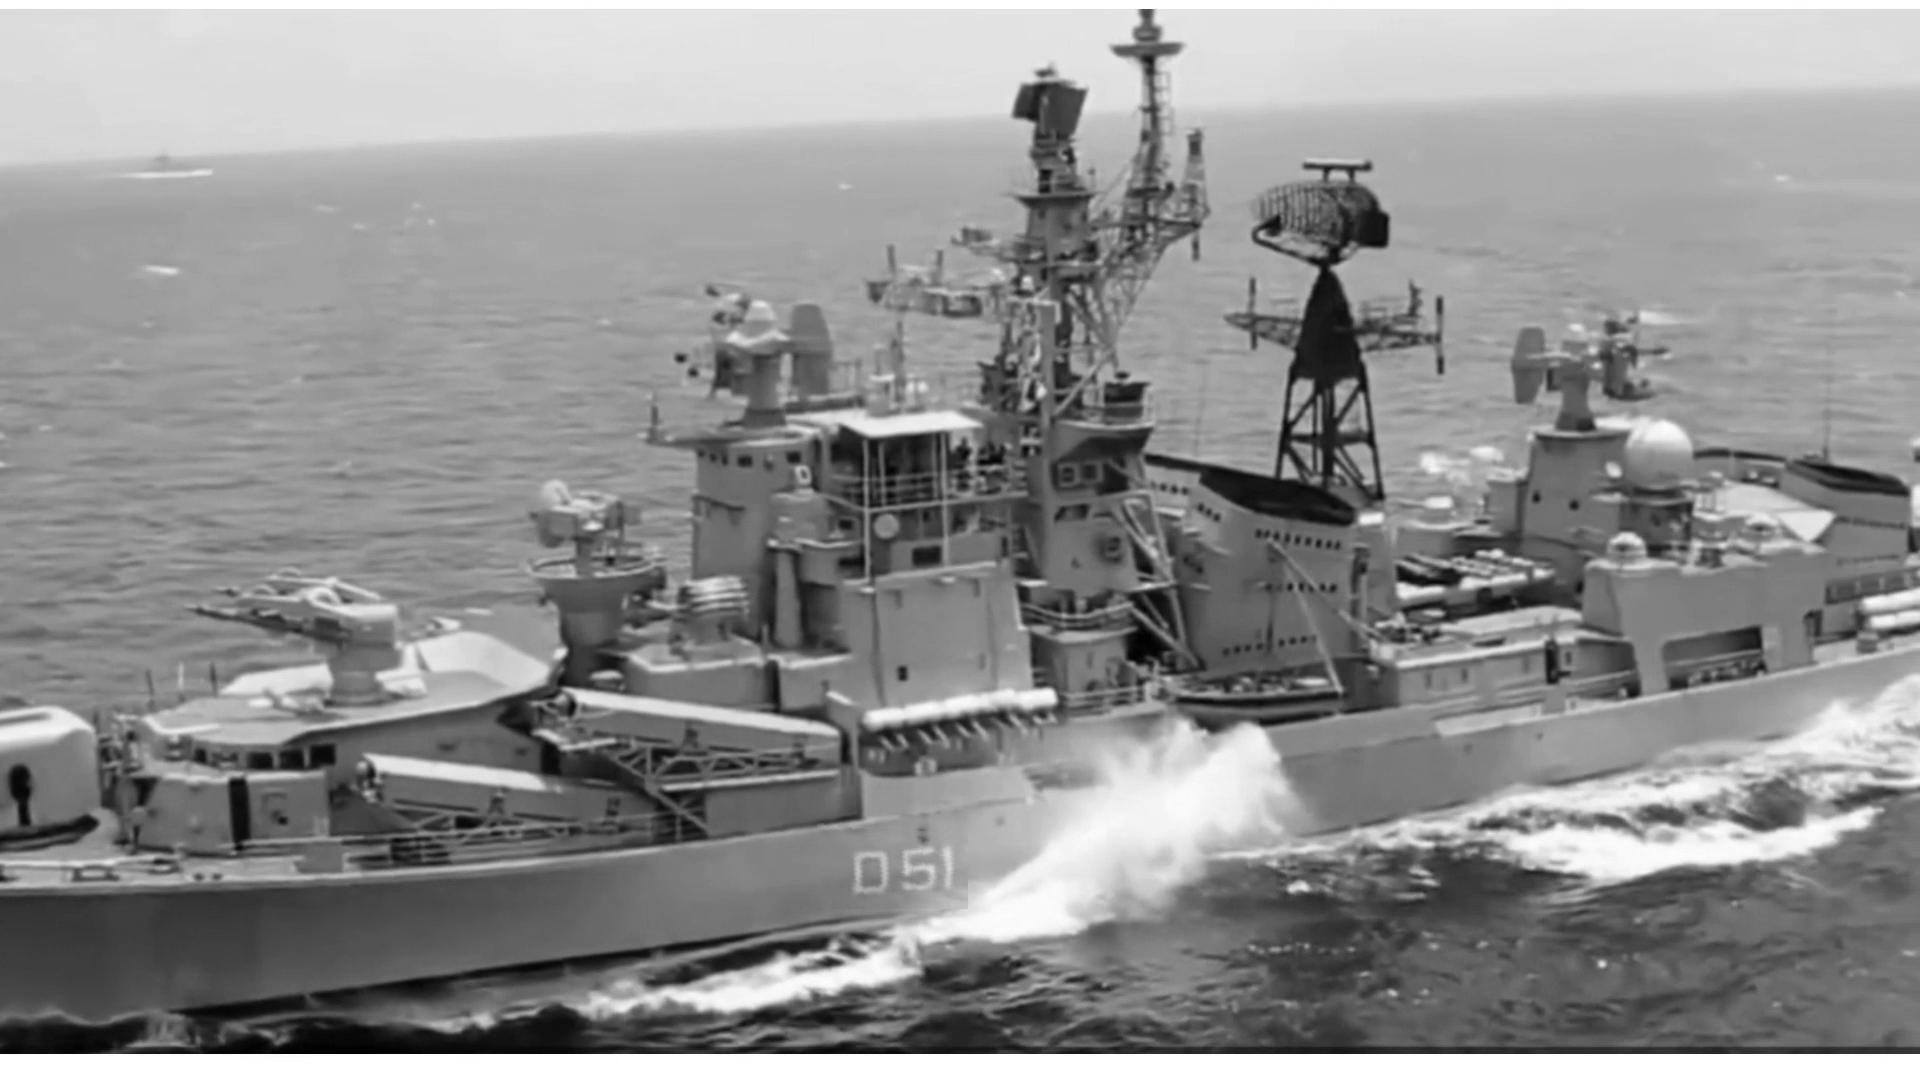OCR: (818, 823, 968, 910)
